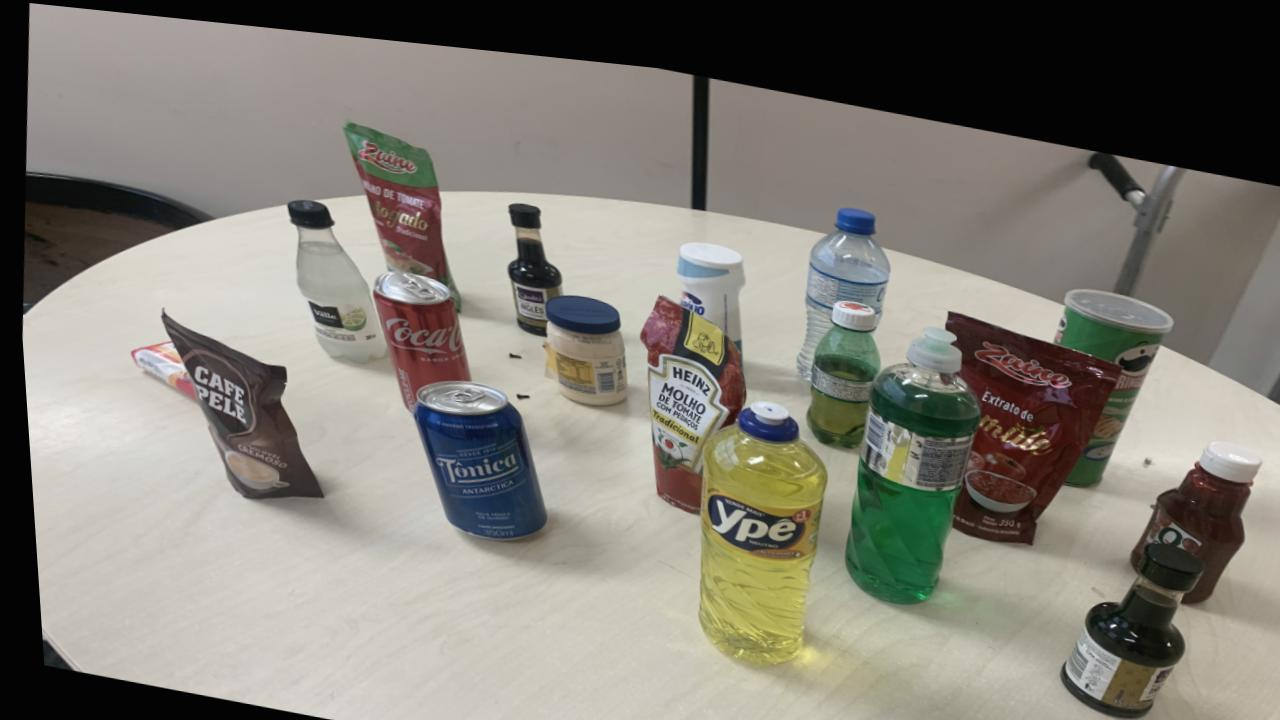Cleaner-Cleanup_Items: (674, 227, 742, 336)
Coffee-Pantry_Items: (156, 309, 316, 494)
Coke-Drinks: (369, 262, 464, 403)
Detergent-Cleanup_Items: (838, 308, 975, 585), (690, 385, 821, 649)
English_Sauce-Pantry_Items: (1053, 518, 1198, 694), (503, 192, 558, 325)
Guarana-Drinks: (802, 282, 876, 430)
Ketchup-Pantry_Items: (1123, 415, 1257, 578)
Mayonnaise-Pantry_Items: (541, 283, 623, 394)
Pringles-Snacks: (1050, 265, 1169, 464)
Soap-Cleanup_Items: (125, 338, 189, 396)
Soda-Drinks: (284, 193, 382, 356)
Tomato_Sauce-Pantry_Items: (942, 293, 1117, 522), (637, 283, 741, 500), (342, 113, 457, 301)
Tonic-Drinks: (407, 370, 540, 530)
Water_Bottle-Drinks: (792, 189, 886, 362)
